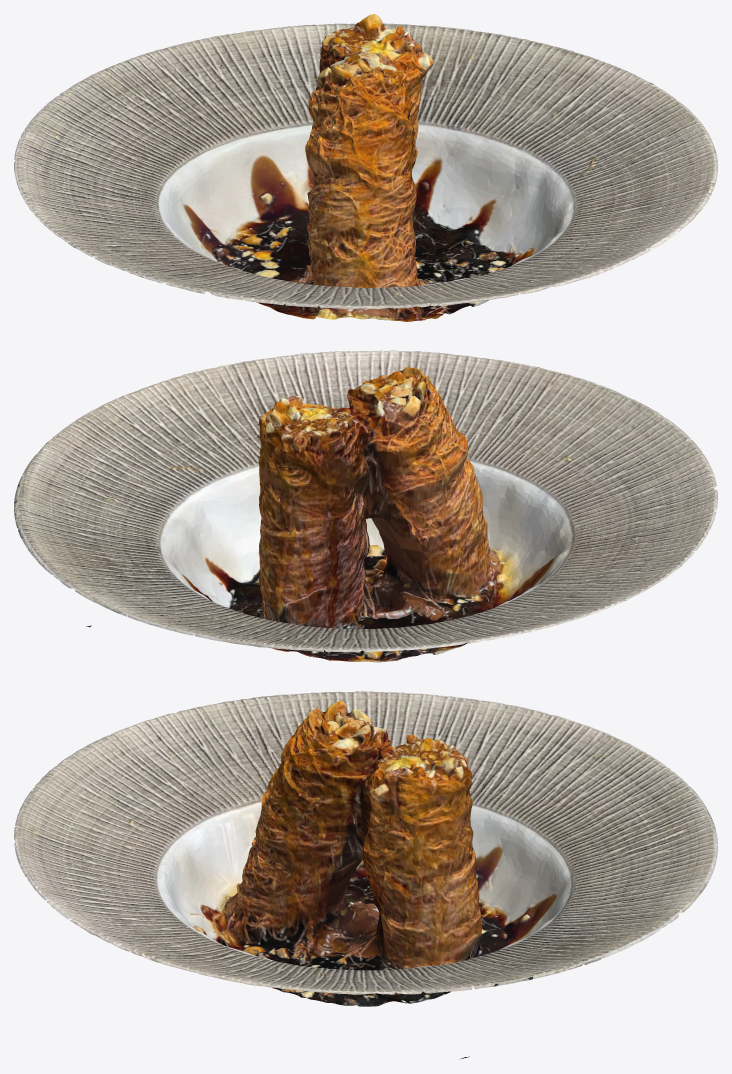
The model's file is baclava-nou.glb.
The picture shows the model from 3 angles, top to bottom: view 1: azimuth 30°, elevation 25°; view 2: azimuth 150°, elevation 25°; view 3: azimuth 270°, elevation 25°; orthographic projection.
Bounding box in the file's own units: 0.2336 × 0.0837 × 0.2336.
1 material, 1 textured.
